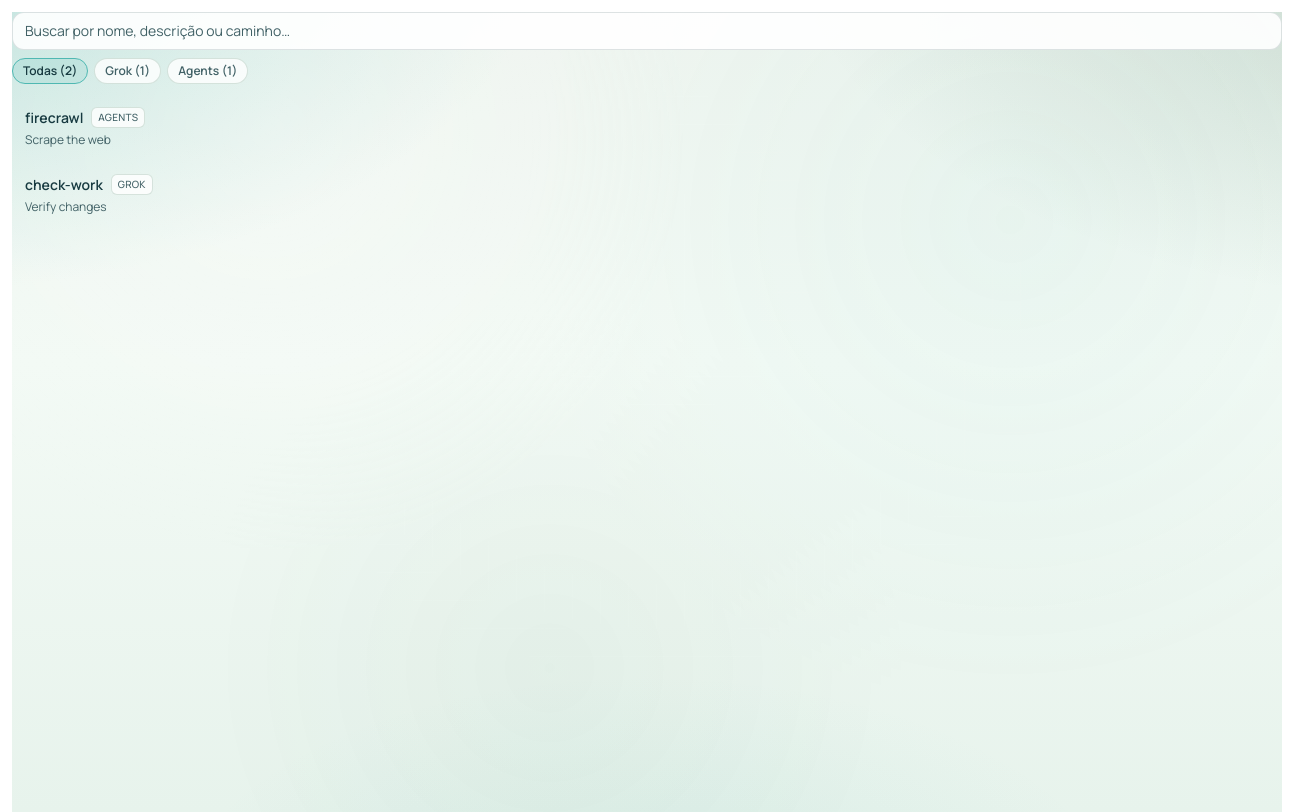
SkillList › filters by source chip
Click the button "Agents (1)" at {"x": 208, "y": 71}, box 167,58 -> 248,84
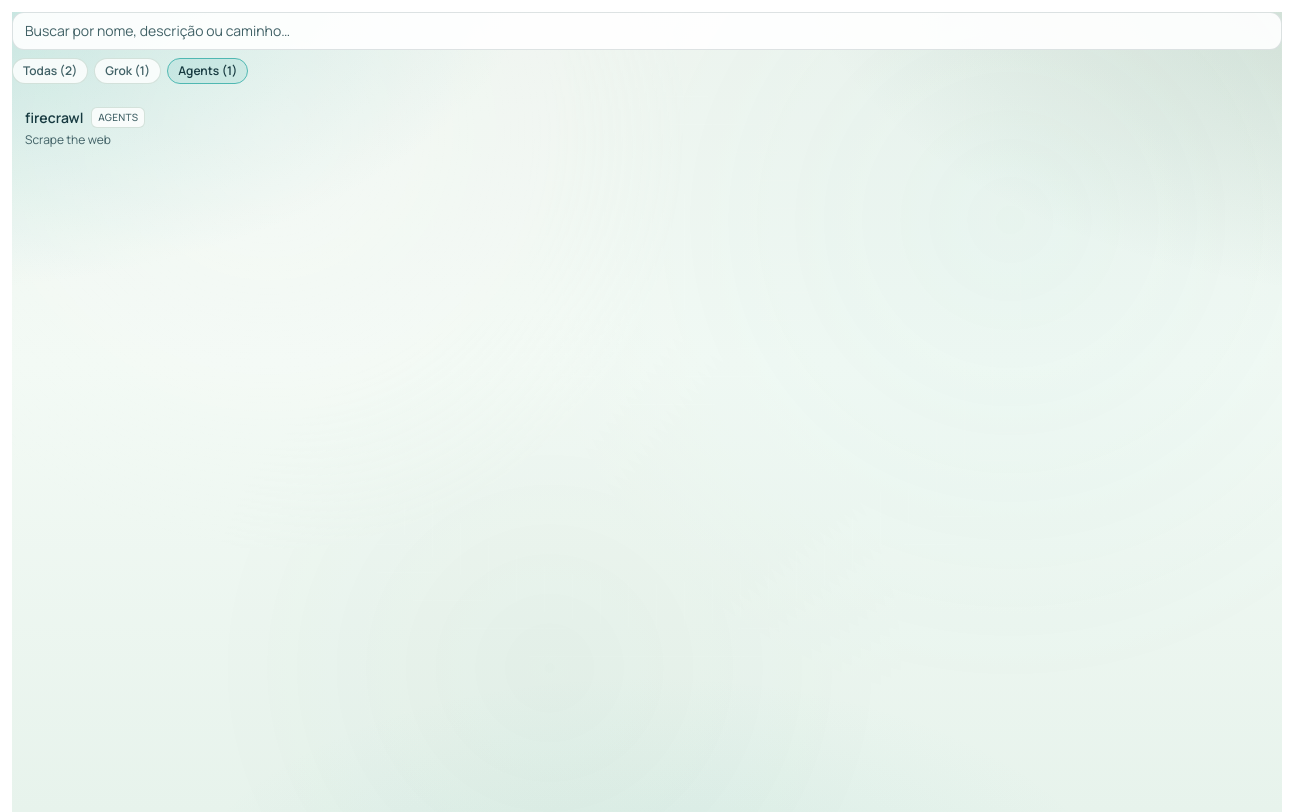
Expected: the text "firecrawl" is shown, 25,108 -> 83,128
Expected: the button "check-work" is gone
